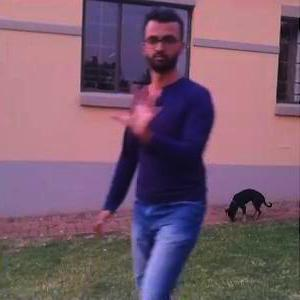follow_hand: (111, 80, 167, 139)
